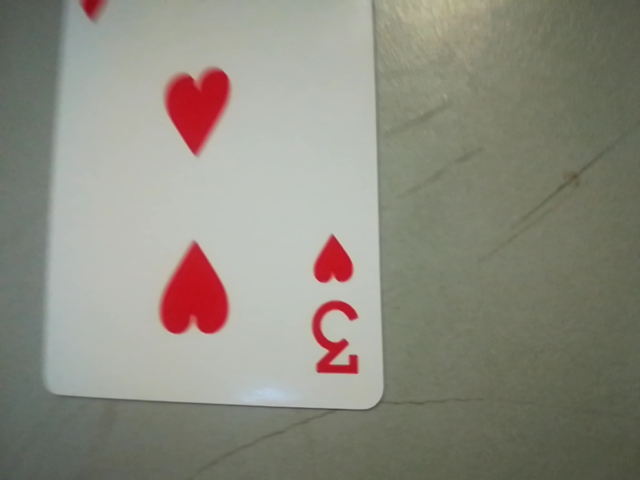hx 3: (298, 219, 374, 391)
